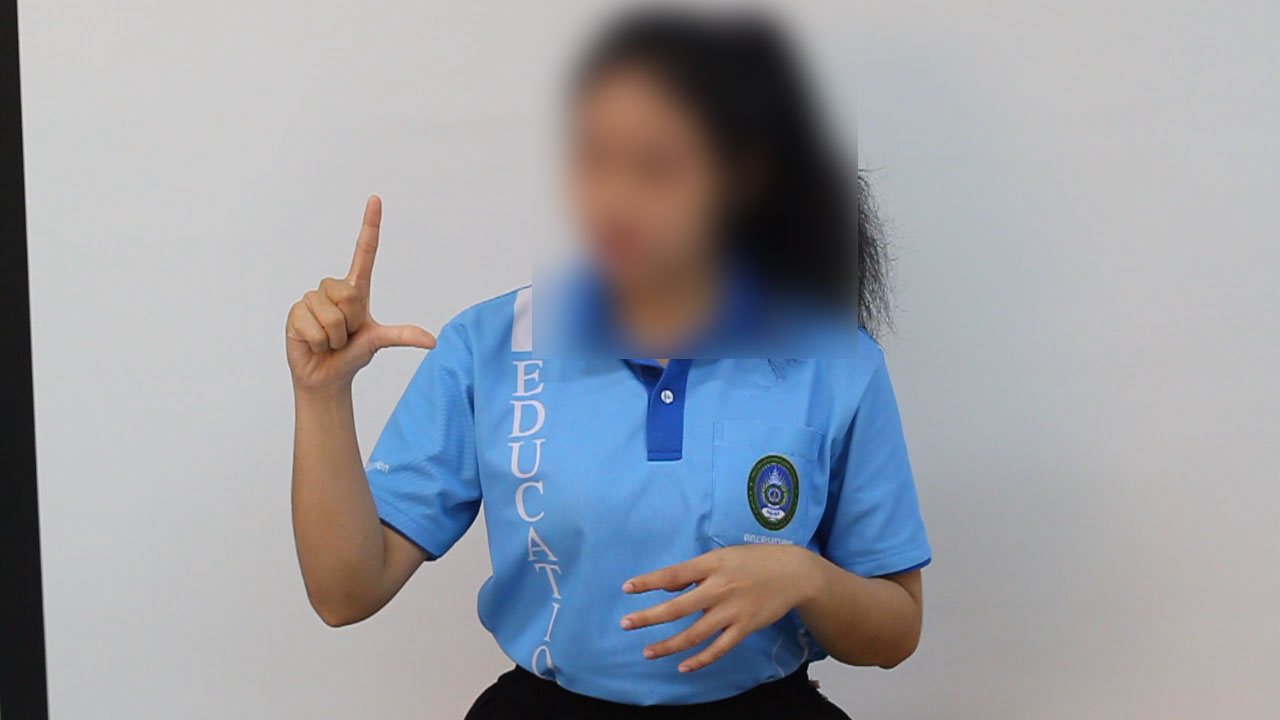lor: (268, 192, 481, 417)
